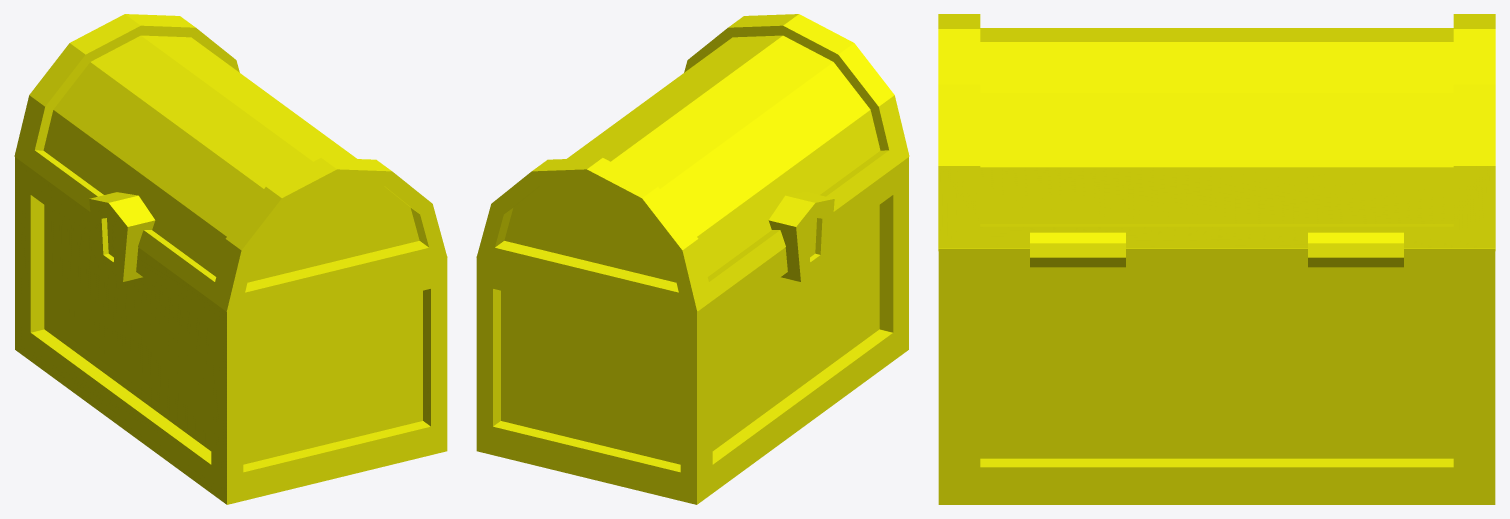
The model's file is ChestWood.glb.
3 renders of one model, left to right at view 1: azimuth 30°, elevation 25°; view 2: azimuth 150°, elevation 25°; view 3: azimuth 270°, elevation 25°, orthographic. The views are drawn at different scales.
Visible parts, largest first — view 1: Chest Wood, Chest Wood Cover; view 2: Chest Wood, Chest Wood Cover; view 3: Chest Wood, Chest Wood Cover.
Boxes of the visible parts, bbox=[...] form: Chest Wood: bbox=[15, 157, 447, 504]; Chest Wood Cover: bbox=[14, 14, 447, 311]; Chest Wood: bbox=[476, 157, 908, 504]; Chest Wood Cover: bbox=[476, 14, 909, 311]; Chest Wood: bbox=[938, 232, 1495, 504]; Chest Wood Cover: bbox=[938, 14, 1495, 250].
Size of the model in its own units: 0.6667 by 0.8036 by 1.
Materials: 2 (2 with a texture image).
